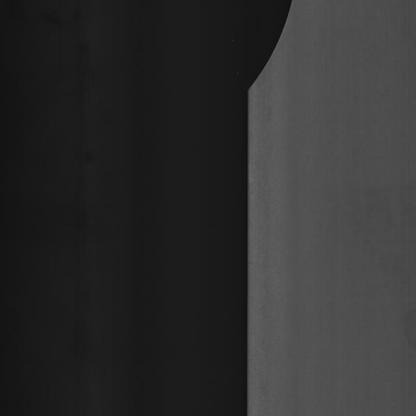crescent_gap: (223, 0, 321, 118)
